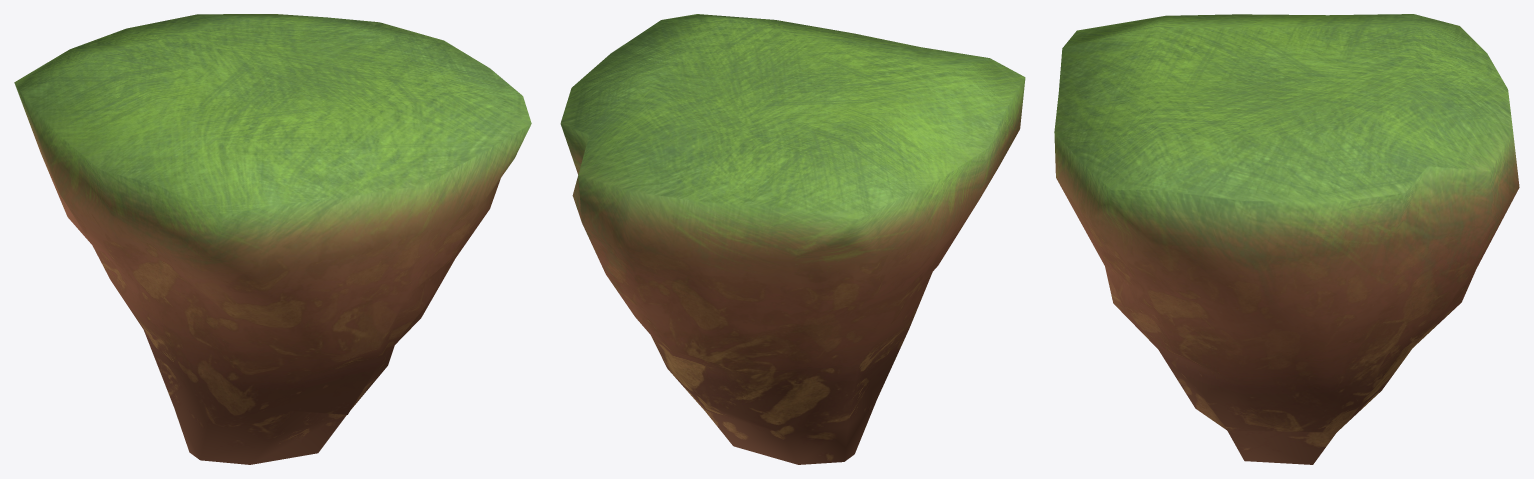
File: floating_island_paint_test.glb
3 renders of one model, left to right at view 1: azimuth 30°, elevation 25°; view 2: azimuth 150°, elevation 25°; view 3: azimuth 270°, elevation 25°, orthographic. The views are drawn at different scales.
Parts seen in each view (by area): view 1: ground 1 B; view 2: ground 1 B; view 3: ground 1 B.
Part boxes in pixels (x1,y1,x2,y2): ground 1 B: [14, 14, 531, 464]; ground 1 B: [560, 14, 1025, 464]; ground 1 B: [1054, 14, 1519, 464].
Bounding box in the file's own units: 7.82 × 7.08 × 8.04.
1 material, 1 textured.
